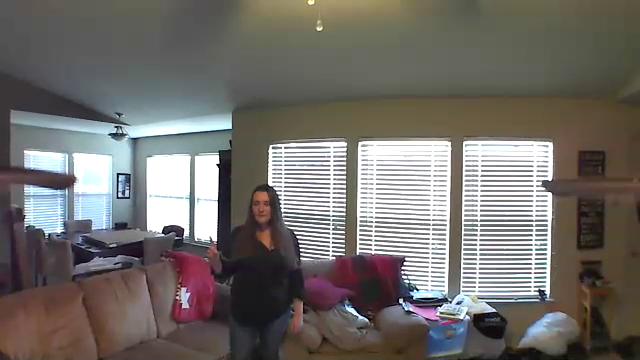up: (203, 235, 225, 261)
